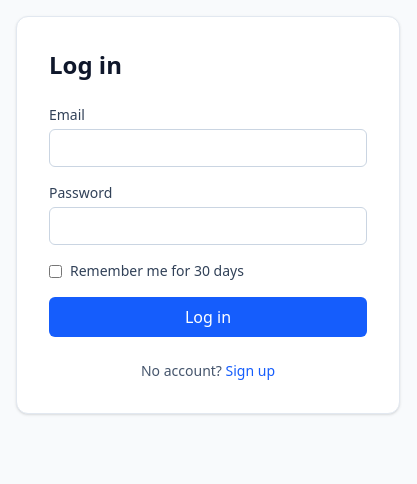
Test: LoginPage › shows the generic error and clears the password on 401
Type "neo@test.local" into the field labelled "Email" at (208, 148), box [49,129,367,167]
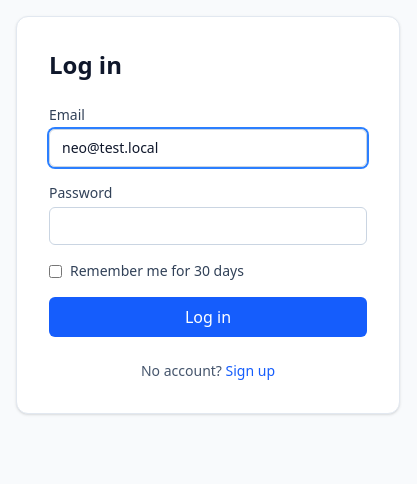
Type "wrong" into the password field labelled "Password" at (208, 226), box [49,207,367,245]
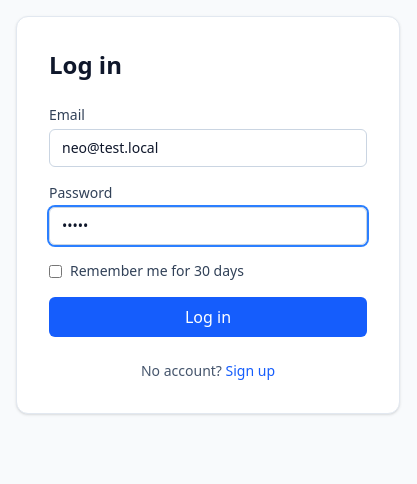
Click the button "Log in" at (208, 317), box [49,297,367,337]
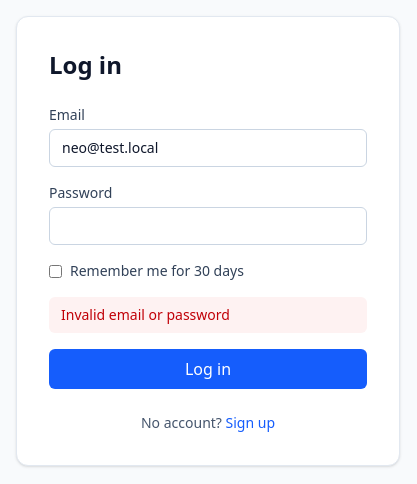
Result: the message reads "Invalid email or password" at [61,305,230,324]
Result: the password field labelled "Password" is empty at [49,207,367,245]
